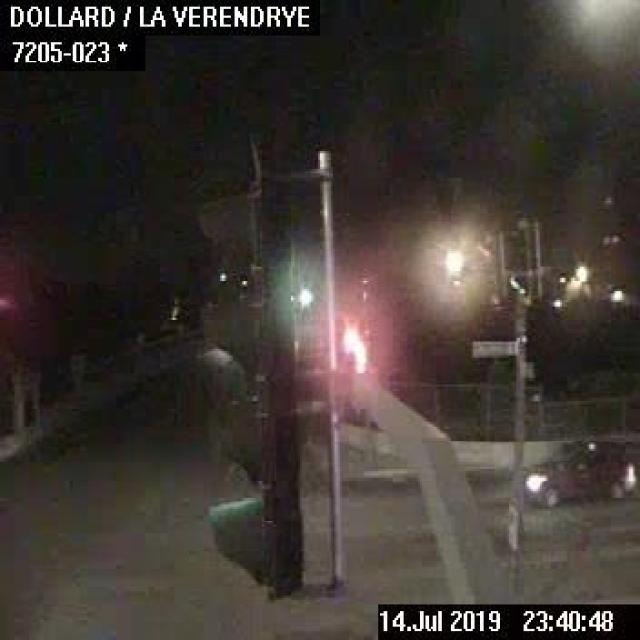vehicle: (522, 438, 638, 504)
